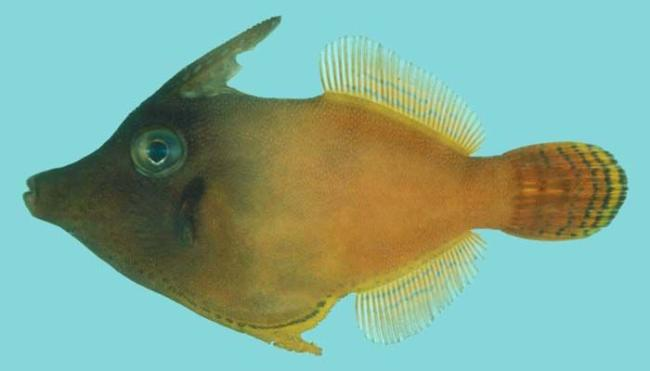fish: (23, 15, 628, 356)
